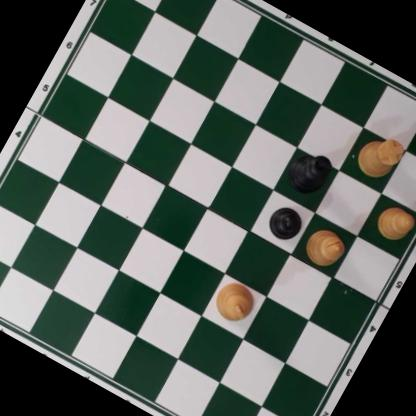black-king: (281, 145, 334, 199)
black-pawn: (263, 200, 308, 244)
black-rook: (414, 99, 416, 163)
white-bishop: (300, 221, 352, 273)
white-king: (207, 273, 262, 329)
white-pawn: (371, 199, 416, 248)
white-rook: (352, 126, 410, 186)
